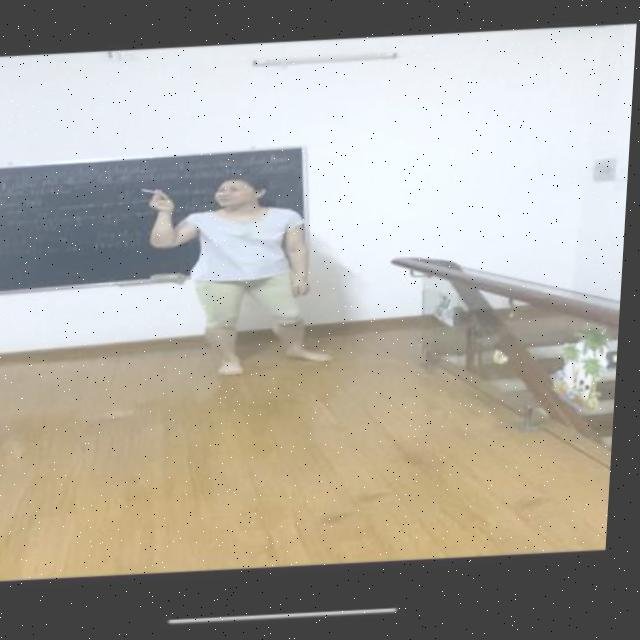cigarette: (140, 189, 161, 196)
